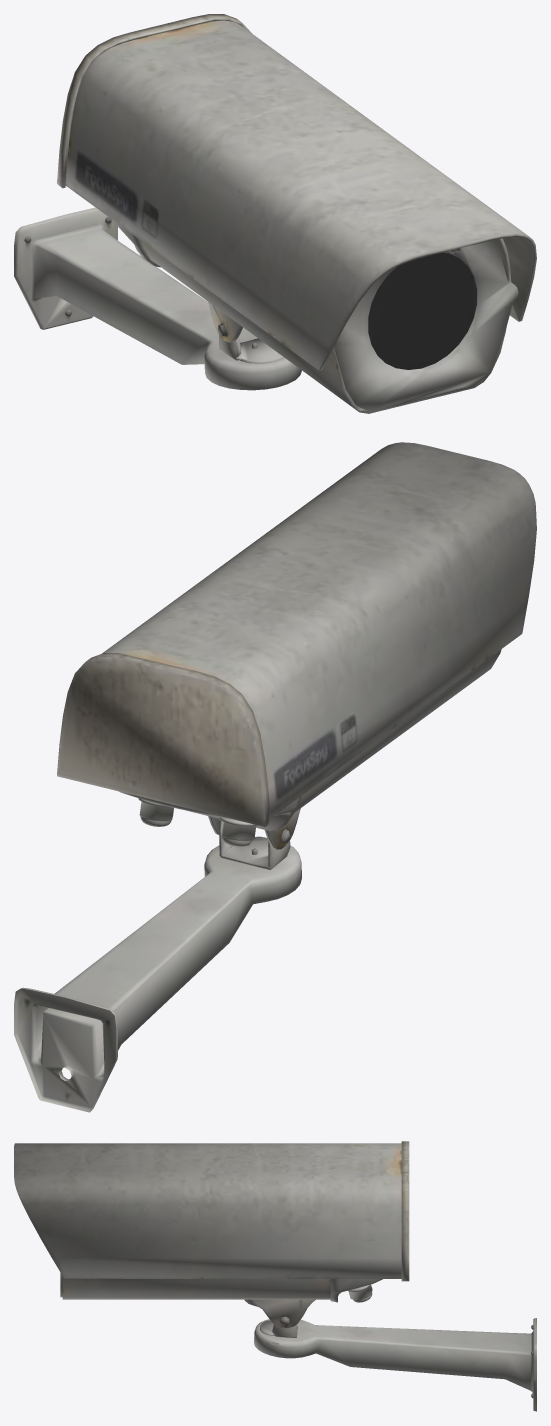
The model's file is security_camera_01.glb.
The picture shows the model from 3 angles, top to bottom: view 1: azimuth 30°, elevation 25°; view 2: azimuth 150°, elevation 25°; view 3: azimuth 270°, elevation 25°; orthographic projection. The views are drawn at different scales.
Parts seen in each view (by area): view 1: security_camera_01; view 2: security_camera_01; view 3: security_camera_01.
Boxes of the visible parts, bbox=[...] form: security_camera_01: bbox=[14, 14, 536, 413]; security_camera_01: bbox=[14, 442, 536, 1112]; security_camera_01: bbox=[14, 1141, 536, 1411].
Bounding box in the file's own units: 0.1695 × 0.2861 × 0.5537.
Materials: 2 (2 with a texture image).
